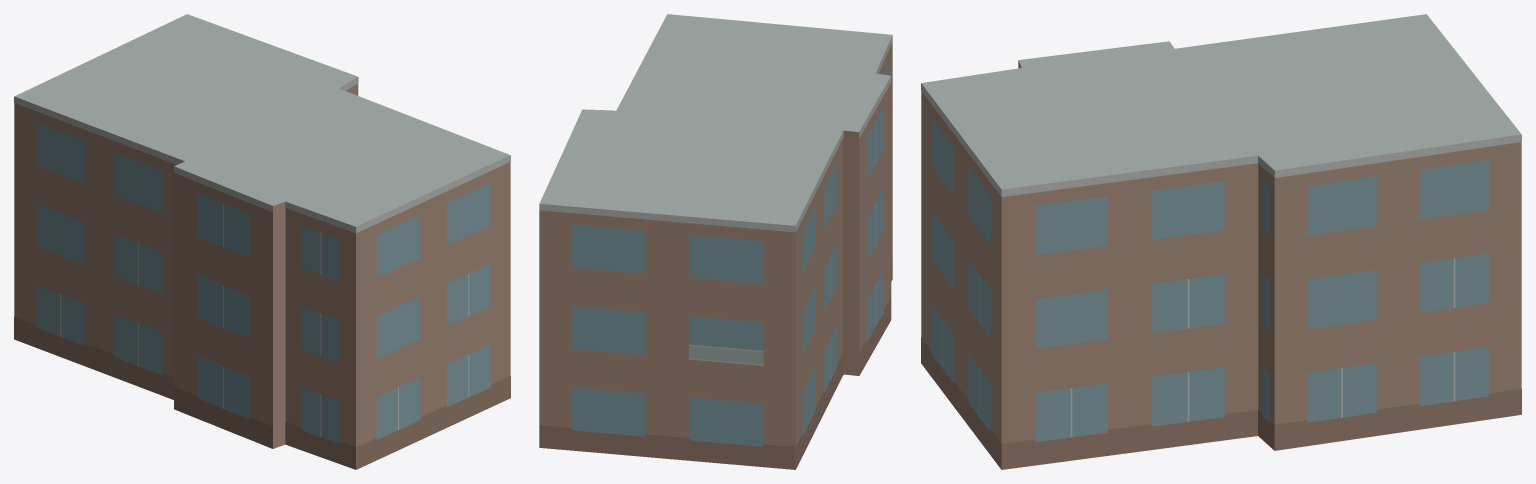
File: survey-upis-32952108.glb
The picture shows the model from 3 angles, left to right: view 1: azimuth 30°, elevation 25°; view 2: azimuth 150°, elevation 25°; view 3: azimuth 270°, elevation 25°; orthographic projection. The views are drawn at different scales.
Visible parts, largest first — view 1: survey-upis-32952108.tmp; view 2: survey-upis-32952108.tmp; view 3: survey-upis-32952108.tmp.
Boxes of the visible parts, x1,y1,x2,y2 form: survey-upis-32952108.tmp: (14, 14, 510, 469); survey-upis-32952108.tmp: (539, 14, 892, 469); survey-upis-32952108.tmp: (921, 14, 1521, 469).
Bounding box in the file's own units: 12.31 × 9.15 × 17.79.
